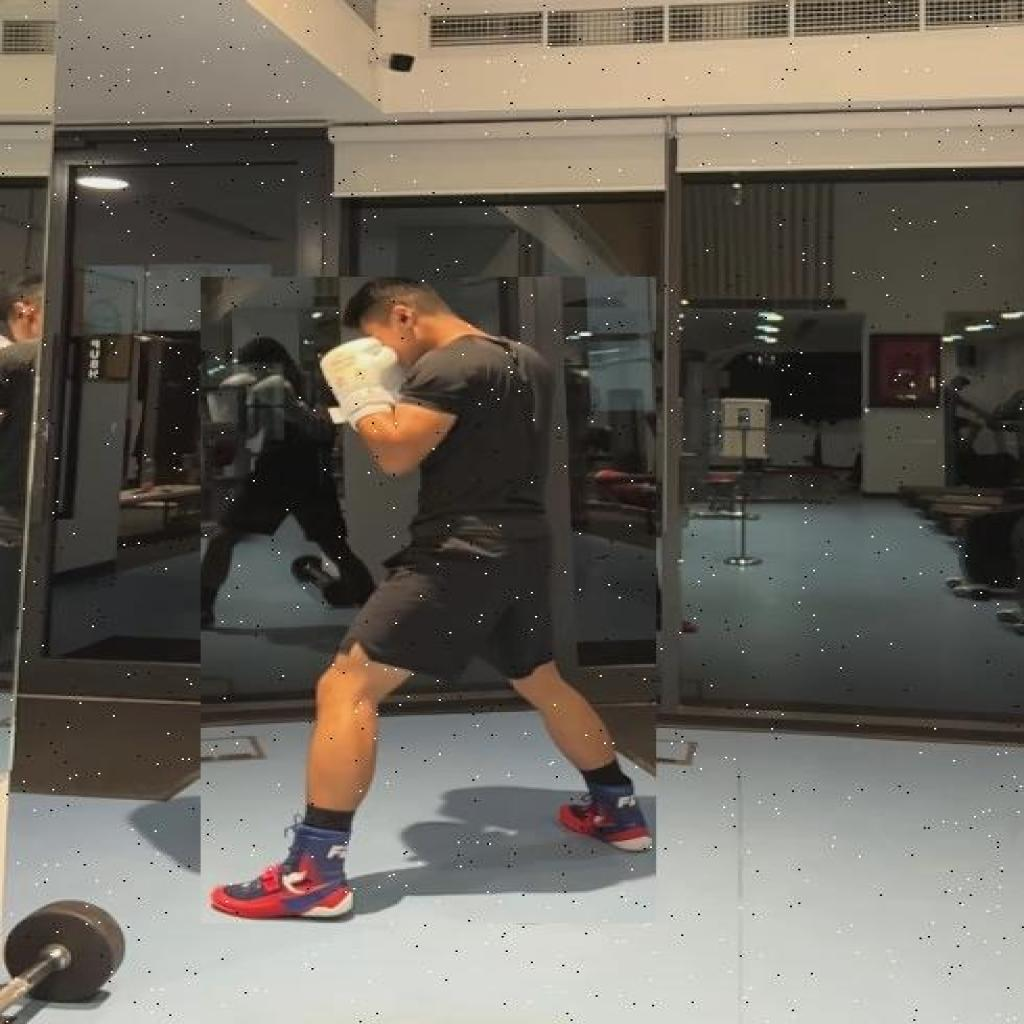no punch: (201, 277, 655, 923)
